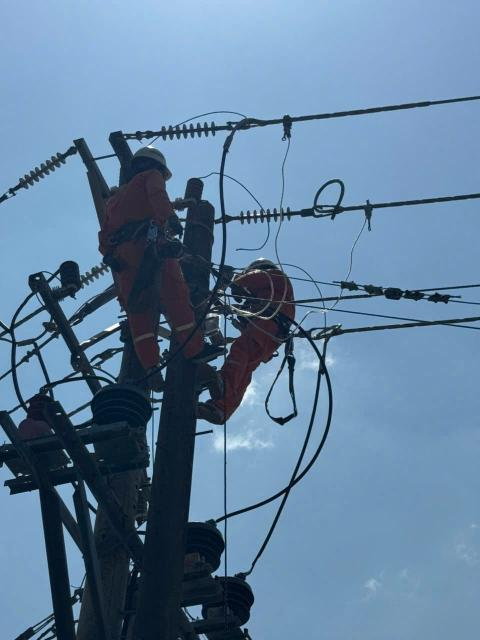harness: (103, 220, 195, 266), (233, 292, 302, 346)
helmet: (118, 130, 175, 185), (244, 250, 283, 282)
shoes: (182, 395, 238, 425), (188, 337, 232, 368), (141, 364, 176, 399)
